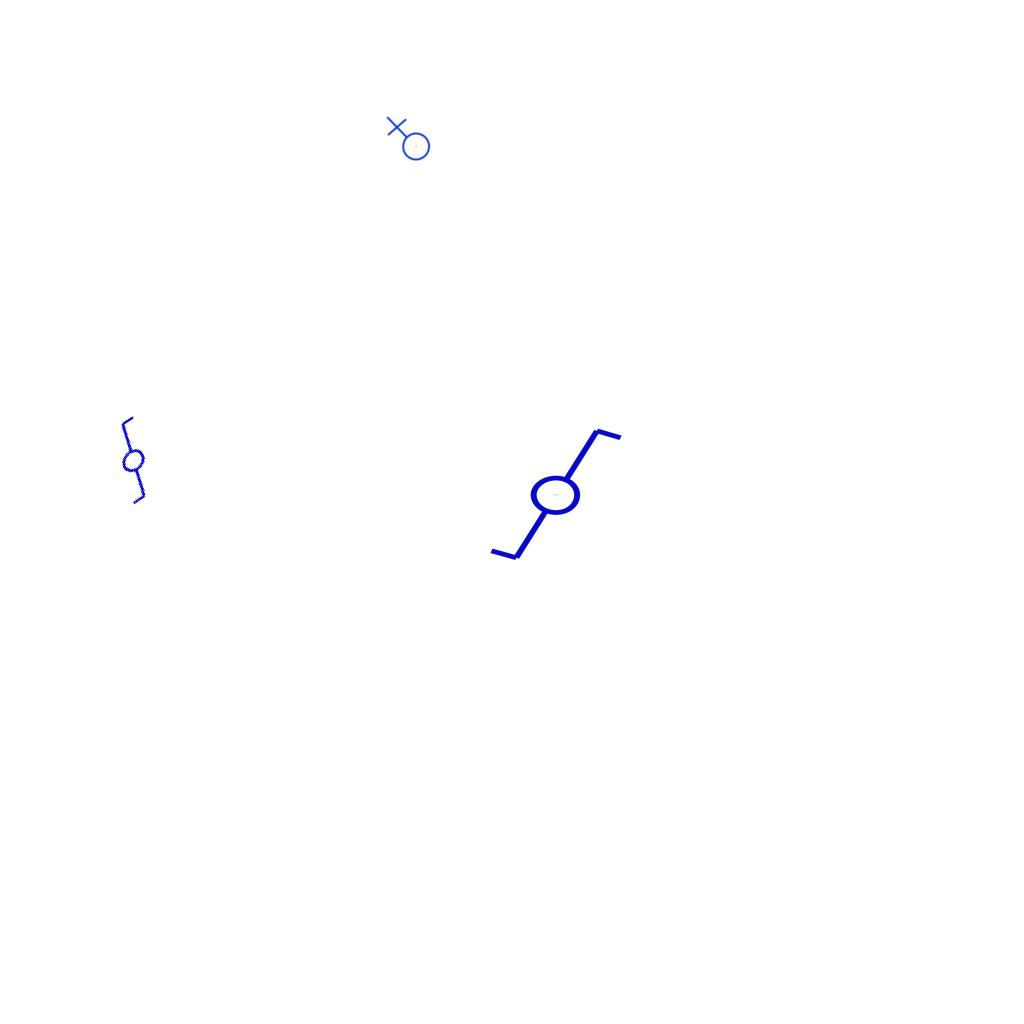Elektroanschluss_allgemein_230V_Geraeteanschlussdose_230V: (384, 116, 431, 165)
Wechselschalter: (469, 421, 626, 565), (77, 409, 183, 517)
